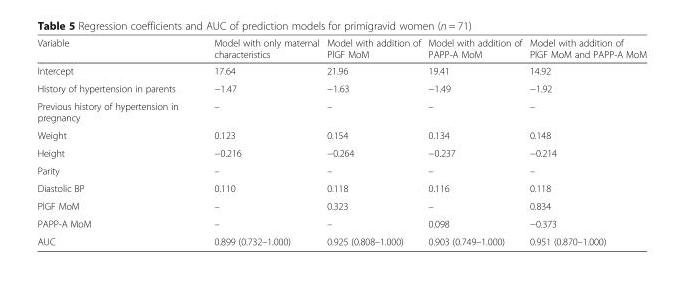table: (36, 36, 646, 246)
table column: (36, 36, 195, 246), (195, 36, 322, 246), (525, 36, 646, 246), (423, 36, 525, 246), (322, 36, 423, 246)
table column header: (36, 36, 646, 62)
table row: (36, 96, 646, 126), (36, 36, 646, 62), (36, 143, 646, 161), (36, 161, 646, 179), (36, 196, 646, 214), (36, 214, 646, 232), (36, 62, 646, 79), (36, 79, 646, 96), (36, 126, 646, 143), (36, 179, 646, 196), (36, 232, 646, 246)
